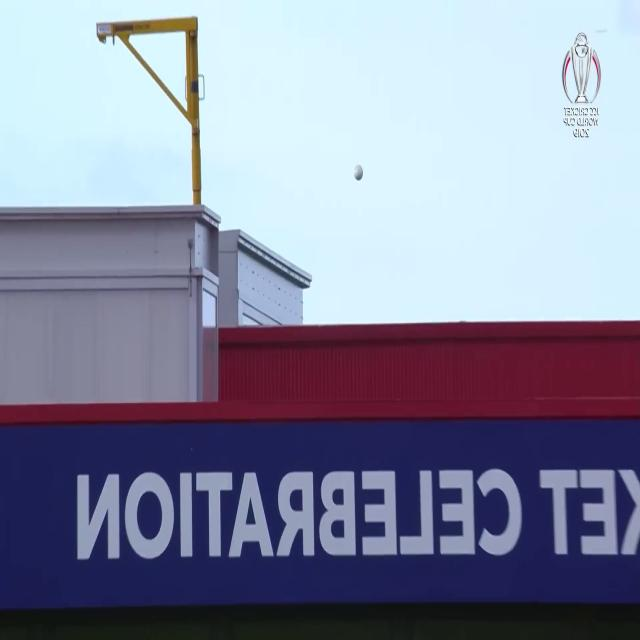ball: (352, 162, 365, 182)
